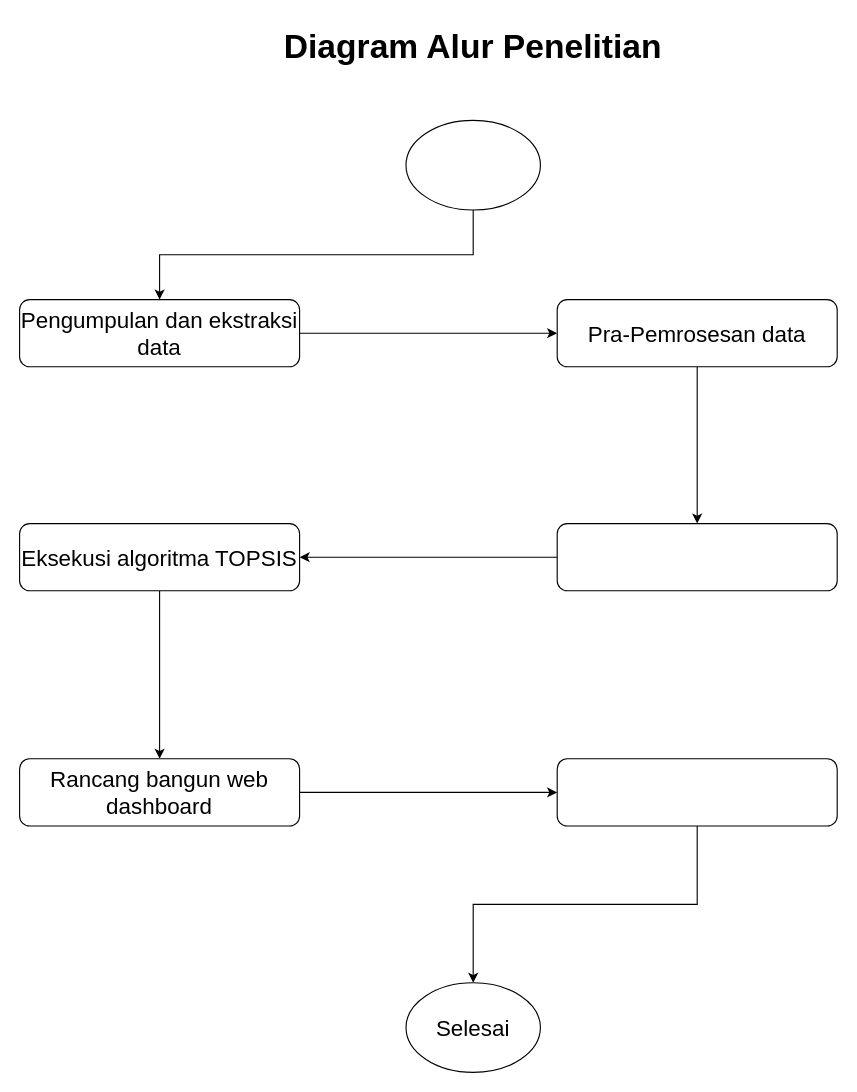
Image size: 857x1092. Some labels were removed from this diagram. Here are the shapes that lost their labels. From the top down, the centre of each, then its label:
At (x=472, y=164): "Mulai".
At (x=696, y=556): "Pembentukan Matriks Kriteria (C1-C7)".
At (x=696, y=792): "Pengujian dan evaluasi sistem".
